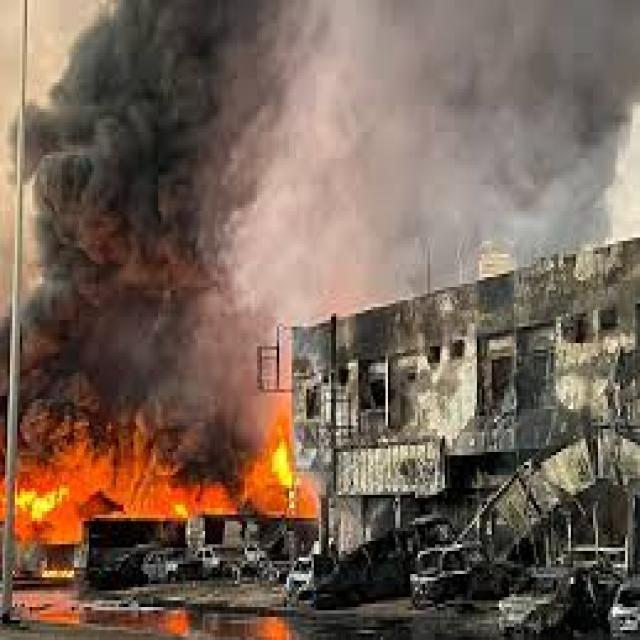Fire: (0, 416, 317, 545)
Smoke: (0, 0, 310, 479), (348, 0, 630, 297)
